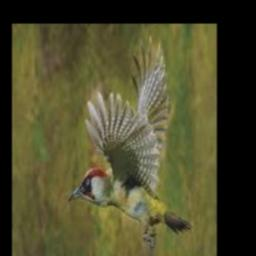Woodpecker: (68, 35, 194, 248)
